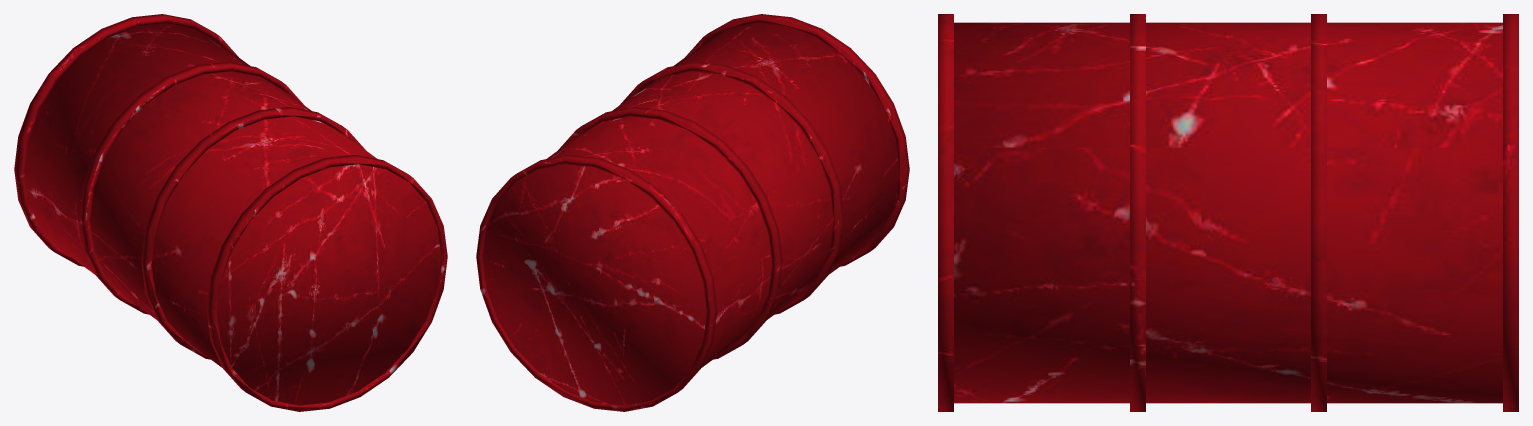
Rendered from Explosive_Barrel_001.fbx.
3 renders of one model, left to right at view 1: azimuth 30°, elevation 25°; view 2: azimuth 150°, elevation 25°; view 3: azimuth 270°, elevation 25°, orthographic. The views are drawn at different scales.
Visible parts, largest first — view 1: Explosive Barrel.001; view 2: Explosive Barrel.001; view 3: Explosive Barrel.001.
Part boxes in pixels (x1=…): Explosive Barrel.001: x1=14, y1=14, x2=447, y2=411; Explosive Barrel.001: x1=476, y1=14, x2=909, y2=411; Explosive Barrel.001: x1=938, y1=14, x2=1518, y2=411.
Bounding box in the file's own units: 105 × 105 × 152.
1 material, 1 textured.
